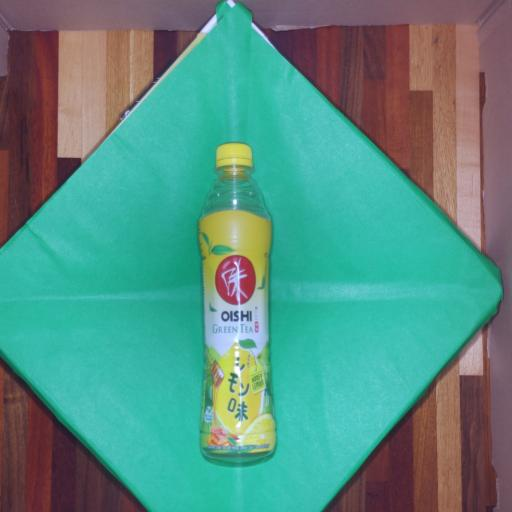bottle: (176, 128, 290, 477)
